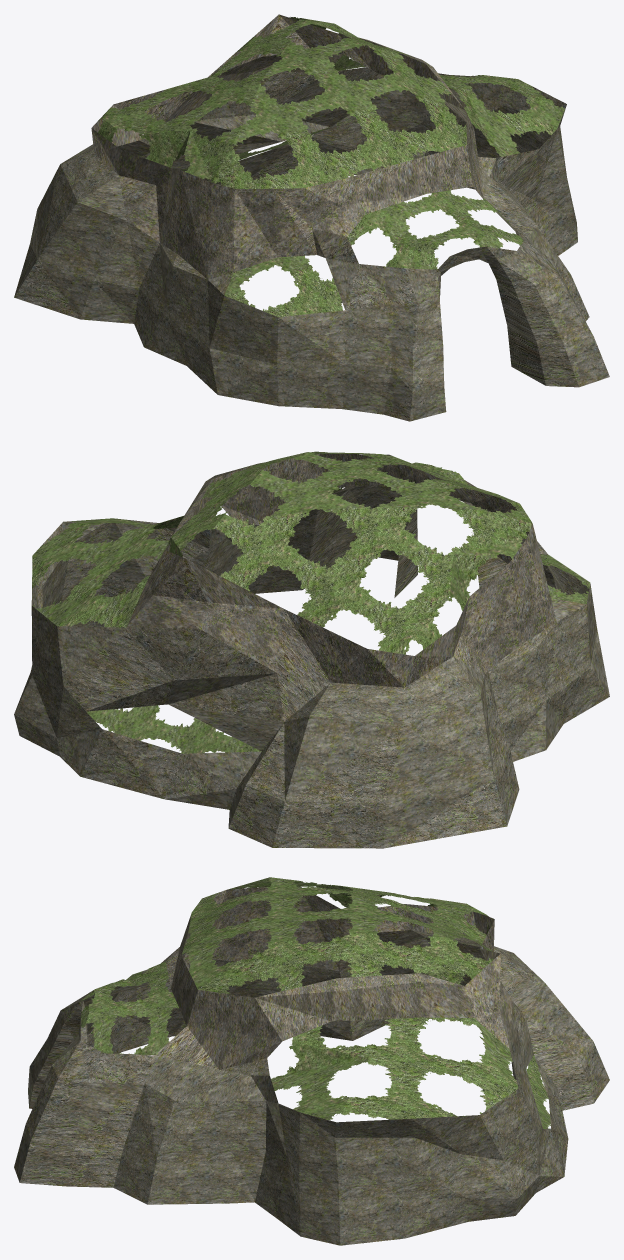
Rendered from poi_all_lair_cave_small_r0_mesh_l3.fbx.
The picture shows the model from 3 angles, top to bottom: view 1: azimuth 30°, elevation 25°; view 2: azimuth 150°, elevation 25°; view 3: azimuth 270°, elevation 25°; orthographic projection. The views are drawn at different scales.
Parts seen in each view (by area): view 1: mesh_node; view 2: mesh_node; view 3: mesh_node.
Part boxes in pixels (bbox=[...]): mesh_node: bbox=[14, 14, 609, 421]; mesh_node: bbox=[14, 451, 609, 848]; mesh_node: bbox=[14, 877, 609, 1245].
Size of the model in its own units: 24.53 by 10.55 by 26.37.
